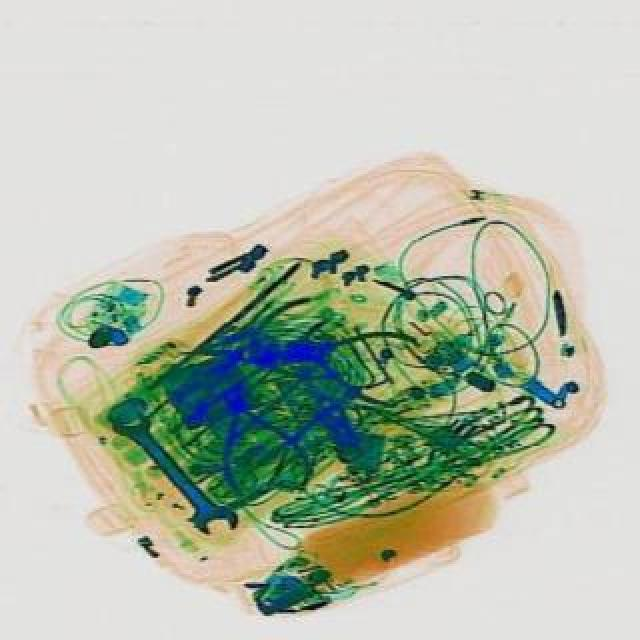scissors: (102, 398, 240, 544)
wrench: (190, 374, 314, 502), (274, 312, 418, 408), (206, 288, 330, 382)
